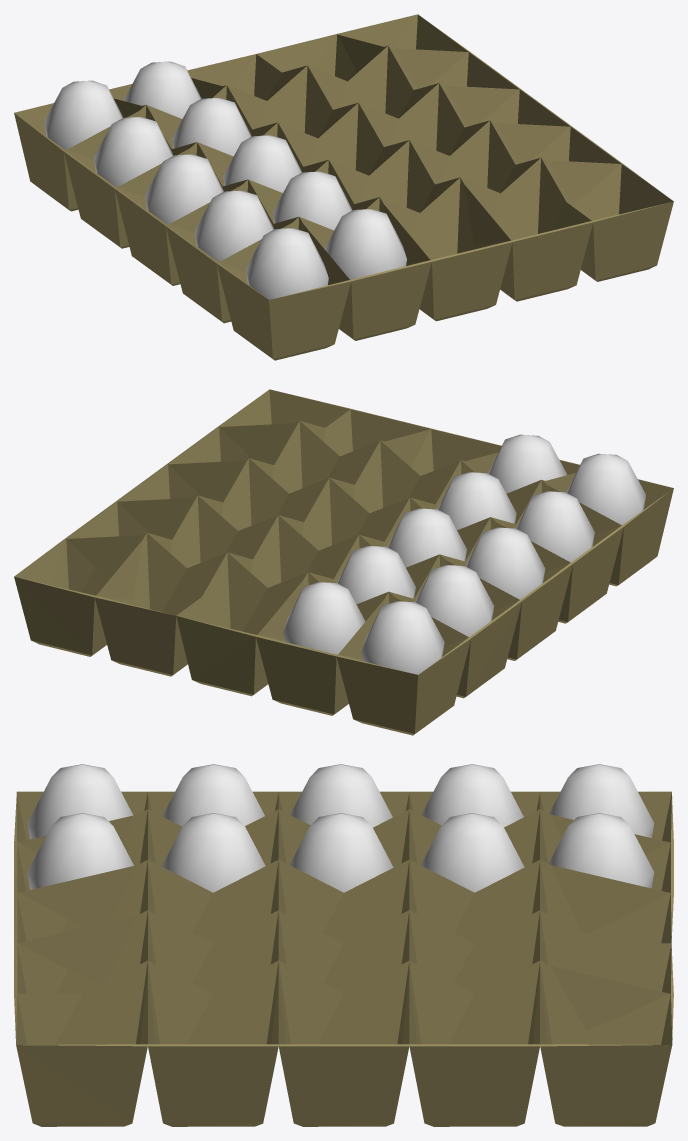
The model's file is Egg (half).fbx.
3 views of the same model, one above another, from view 1: azimuth 30°, elevation 25°; view 2: azimuth 150°, elevation 25°; view 3: azimuth 270°, elevation 25° (orthographic). The views are drawn at different scales.
Visible parts, largest first — view 1: Tray, Tray.021; view 2: Tray, Tray.021; view 3: Tray, Tray.021.
Boxes of the visible parts, <box> form: Tray: <box>14,14,673,360</box>; Tray.021: <box>44,61,406,299</box>; Tray: <box>14,389,673,735</box>; Tray.021: <box>283,434,645,674</box>; Tray: <box>14,791,673,1126</box>; Tray.021: <box>27,764,654,892</box>.
Bounding box in the file's own units: 1.99 × 0.5305 × 2.18.
